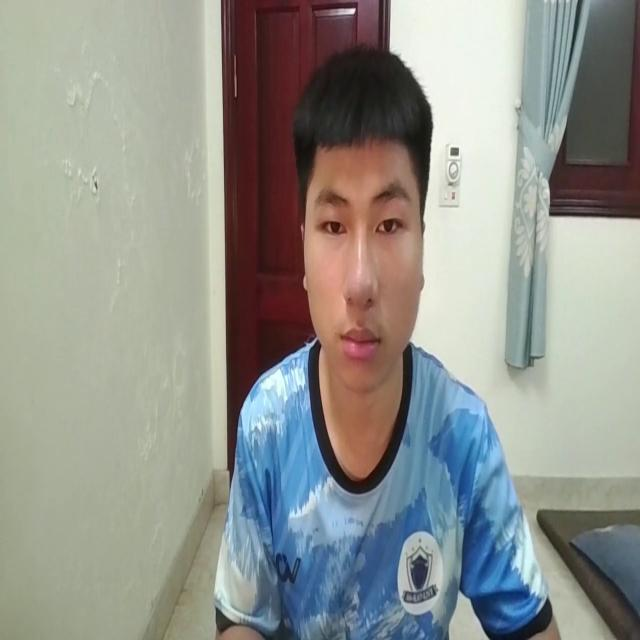student: (212, 39, 557, 640)
